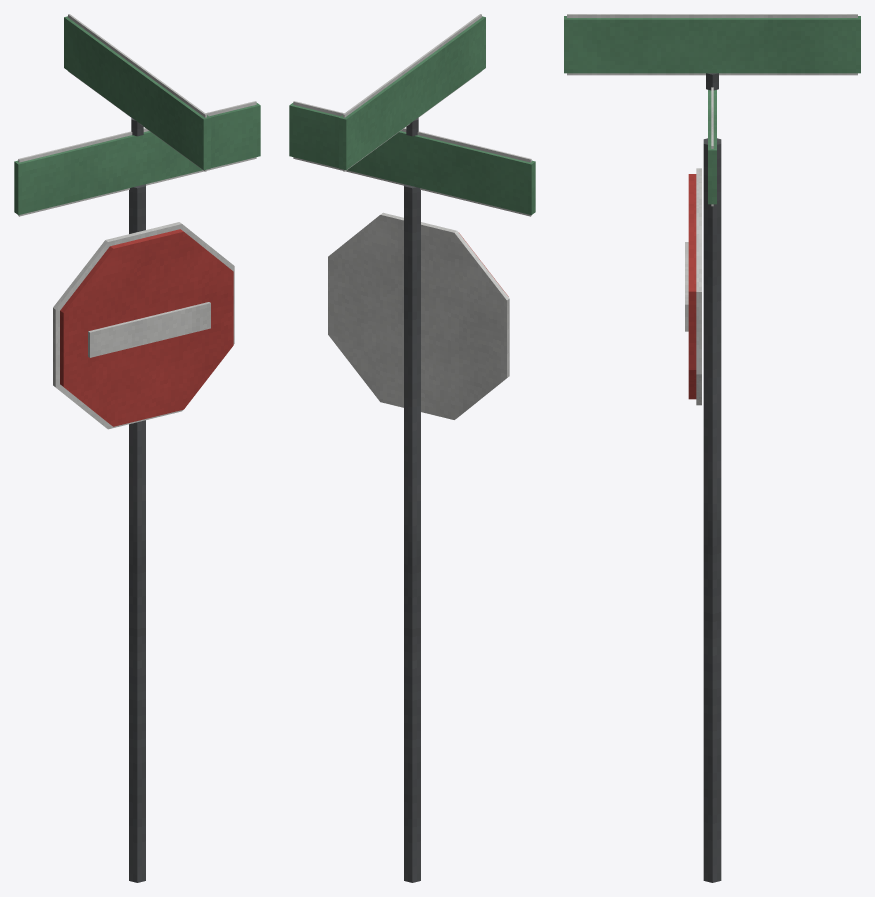
File: town_street_sign.glb
3 views of the same model, side by side, from view 1: azimuth 30°, elevation 25°; view 2: azimuth 150°, elevation 25°; view 3: azimuth 270°, elevation 25° (orthographic). The views are drawn at different scales.
Parts seen in each view (by area): view 1: detail, pole-col; view 2: detail, pole-col; view 3: detail, pole-col.
Part boxes in pixels (<box>): detail: <box>14,14,260,429</box>; pole-col: <box>129,184,145,882</box>; detail: <box>289,14,535,419</box>; pole-col: <box>404,184,420,882</box>; detail: <box>564,14,860,405</box>; pole-col: <box>703,138,721,882</box>.
Size of what is drawn, in the model's own units: 1 by 3.21 by 1.
4 materials, 4 textured.
